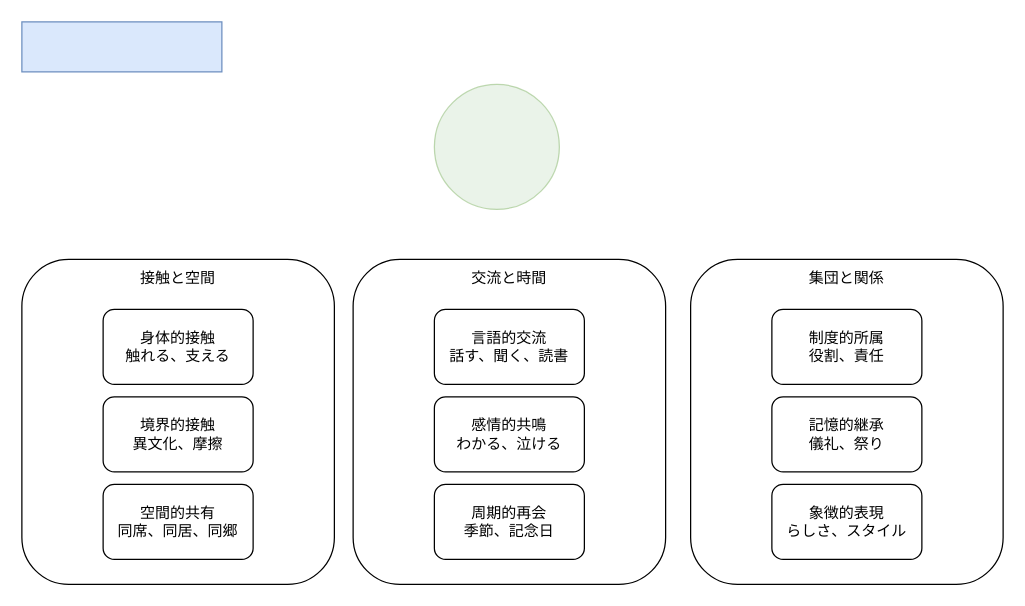
This 1025x606 diagram has some shape labels left out. Each missing label, with the centre of its shape:
地図 ～社会的欲求～: the point at 121,46
自身: the point at 496,146
